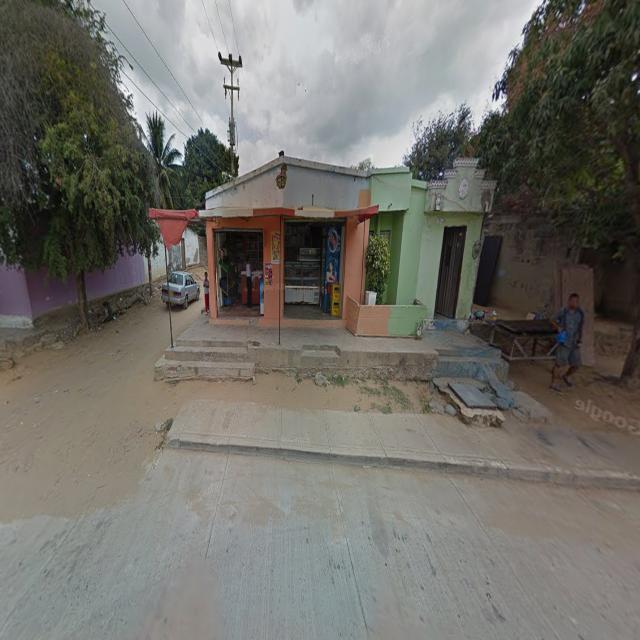Fachada: (199, 154, 379, 326), (347, 158, 496, 336)
Poste: (219, 51, 243, 175)
